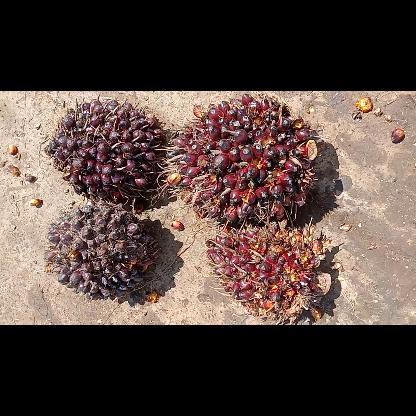Kurang masak: (156, 93, 318, 227), (200, 218, 336, 324), (43, 93, 165, 211), (44, 200, 160, 304)
